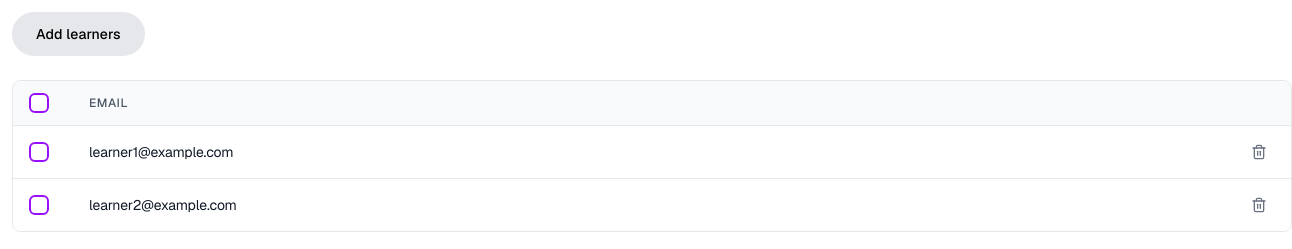
Test case: CohortMemberManagement Component › Member Selection Functionality › selects all members when select all checkbox is clicked
This screenshot has width=1292, height=249.
What coordinates should you click on to do the following:
click the checkbox named "Select all learners"
I would click on:
 (39, 103)
Its box is [29,93,49,113].
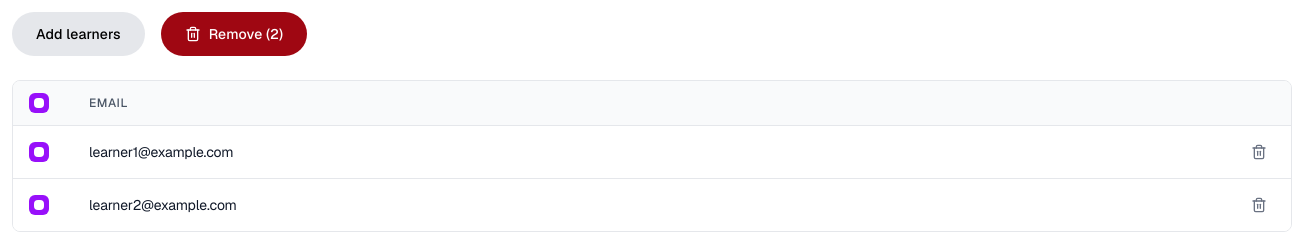
Result: the checkbox next to "learner1@example.com" is checked at [29,142,49,162]
Result: the checkbox next to "learner2@example.com" is checked at [29,195,49,215]
Result: the button "Remove (2)" is shown at [161,12,307,56]
